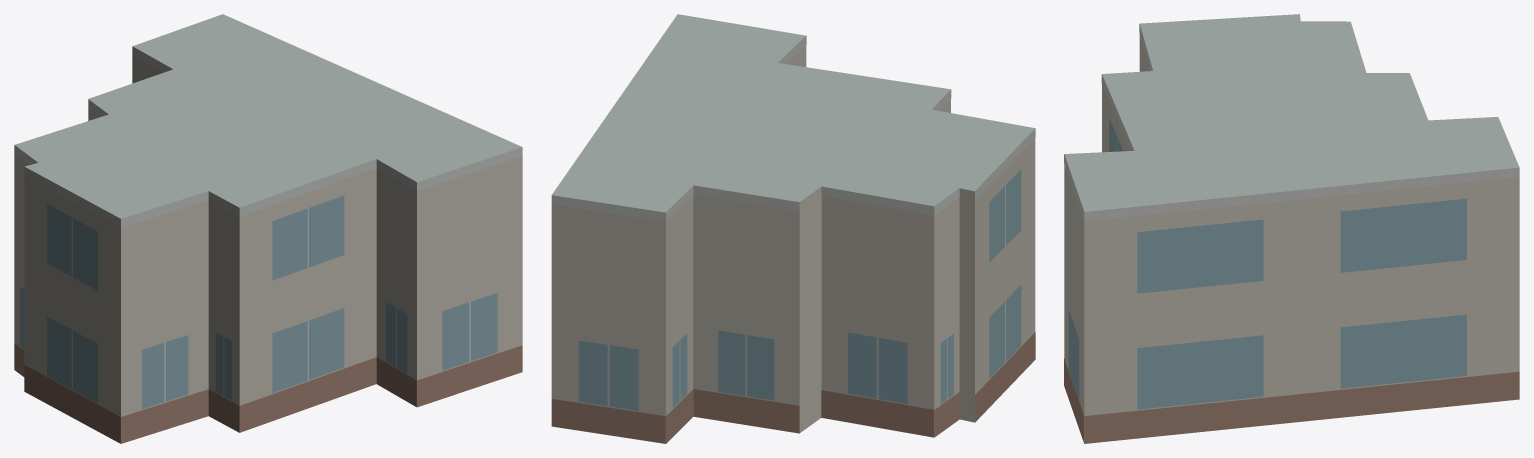
The model's file is survey-upis-32978238.glb.
The picture shows the model from 3 angles, left to right: view 1: azimuth 30°, elevation 25°; view 2: azimuth 150°, elevation 25°; view 3: azimuth 270°, elevation 25°; orthographic projection. The views are drawn at different scales.
Parts seen in each view (by area): view 1: survey-upis-32978238.tmp; view 2: survey-upis-32978238.tmp; view 3: survey-upis-32978238.tmp.
Part boxes in pixels (x1=…): survey-upis-32978238.tmp: x1=14, y1=14, x2=522, y2=443; survey-upis-32978238.tmp: x1=551, y1=14, x2=1035, y2=443; survey-upis-32978238.tmp: x1=1064, y1=14, x2=1519, y2=443.
Size of the model in its own units: 11.18 by 6.1 by 10.87.
